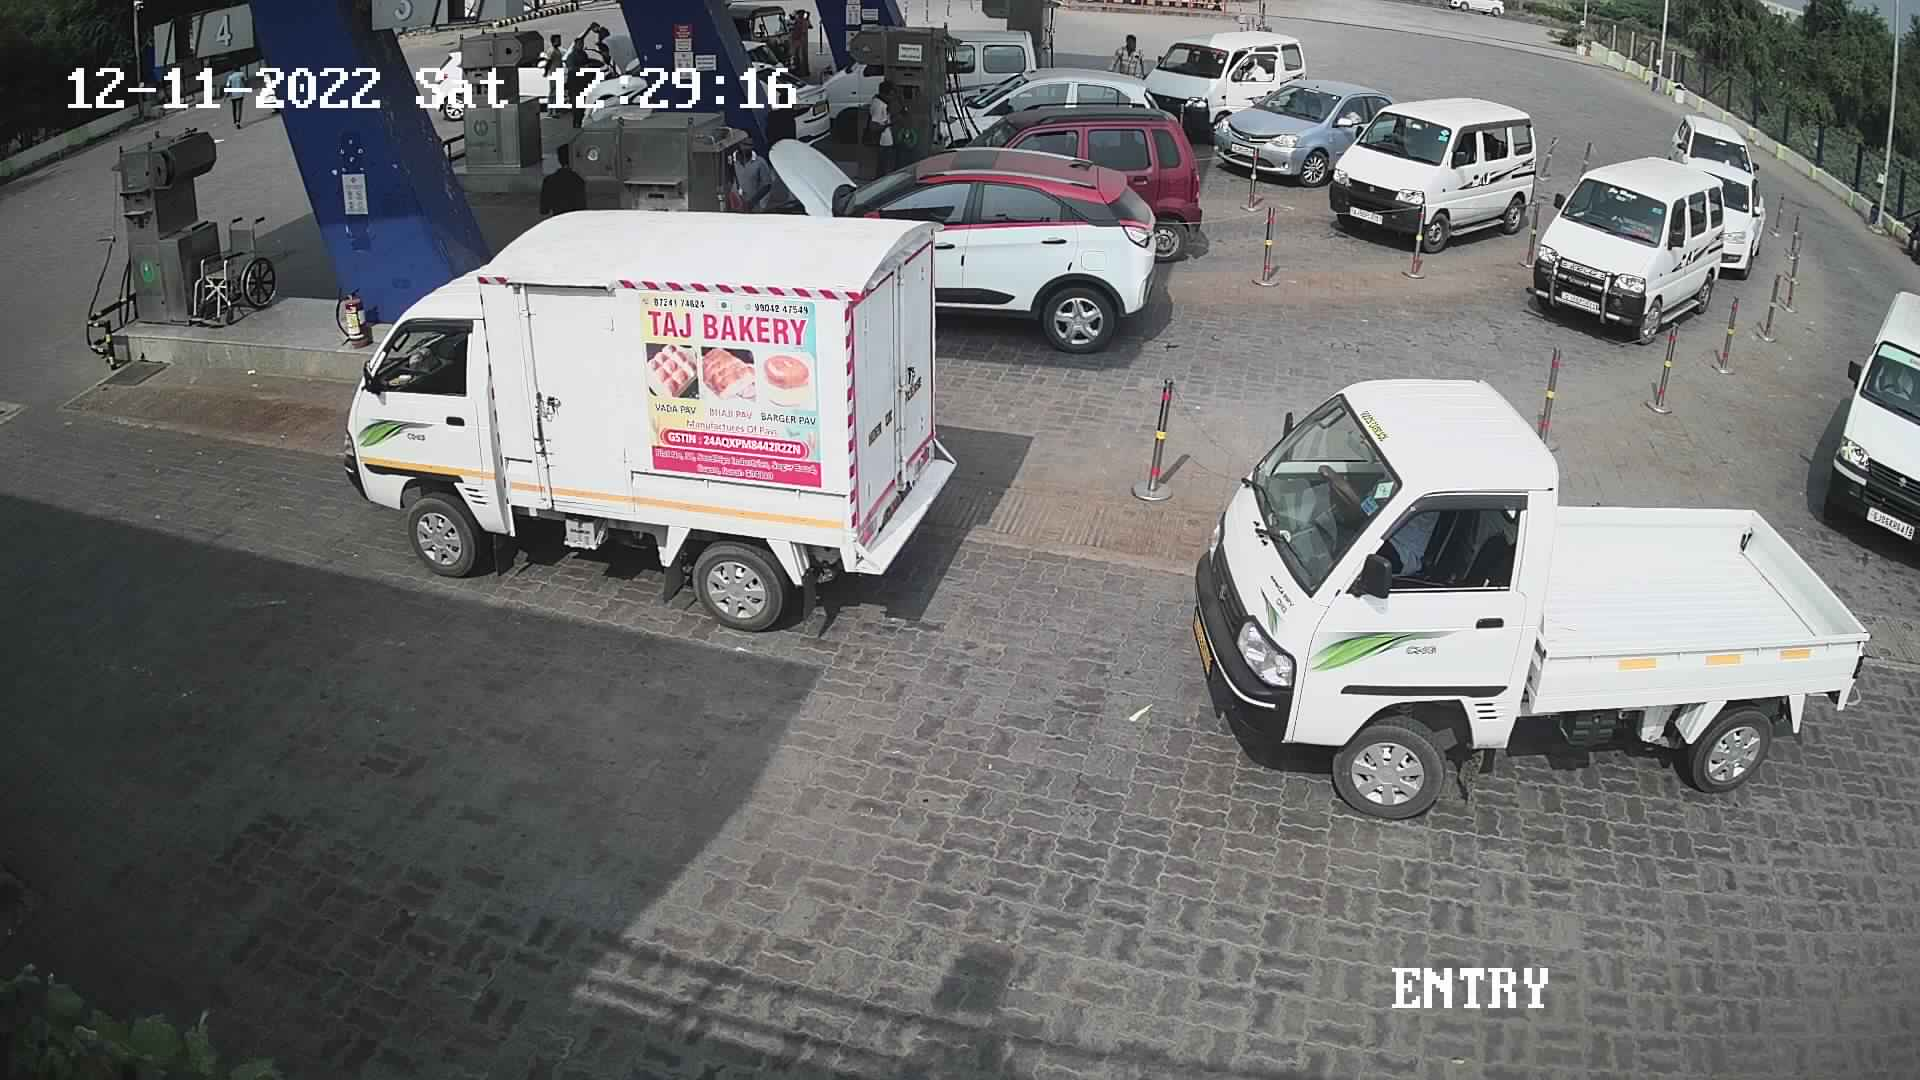Auto: (719, 1, 808, 80)
Car: (1182, 368, 1880, 833), (332, 200, 961, 638), (750, 135, 1164, 360), (947, 100, 1207, 266), (1520, 152, 1731, 349), (1320, 88, 1551, 258), (1804, 289, 1920, 575), (1117, 15, 1319, 148), (1207, 67, 1402, 194), (938, 62, 1166, 152), (738, 26, 840, 152), (1673, 146, 1763, 284), (1660, 107, 1767, 218), (936, 20, 1038, 123), (426, 38, 468, 127)
